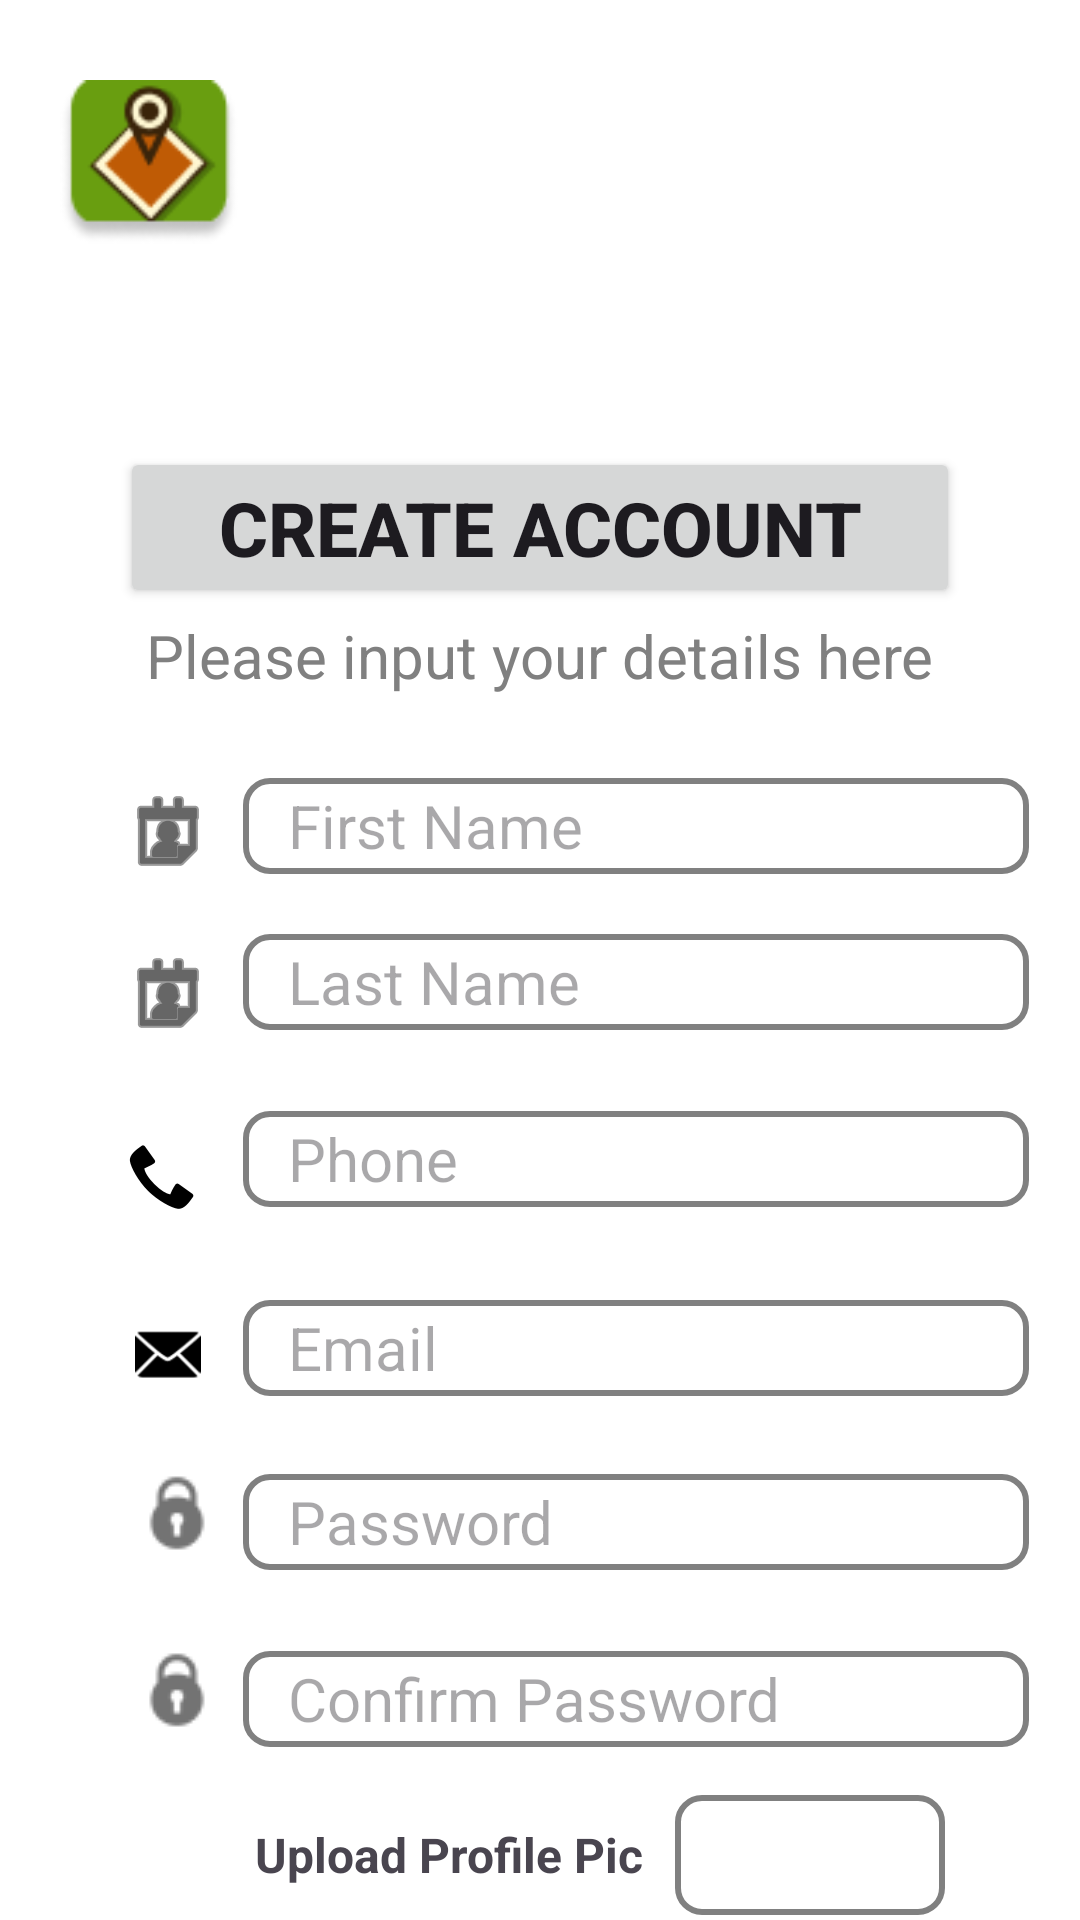

Locate icon controls on the screen. Image size 1080×1920, boxes as (x1,y1,x2,y2).
calendar: (137,796,199,866), (137,958,199,1028)
lock: (149,1476,205,1550), (149,1653,205,1727)
